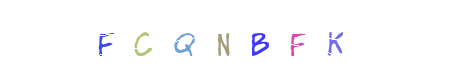B: (187, 0, 267, 80)
C: (164, 0, 244, 80)
F: (147, 0, 227, 80), (243, 0, 323, 80)
K: (255, 0, 335, 80)
N: (186, 0, 266, 80)
Q: (171, 0, 251, 80)
